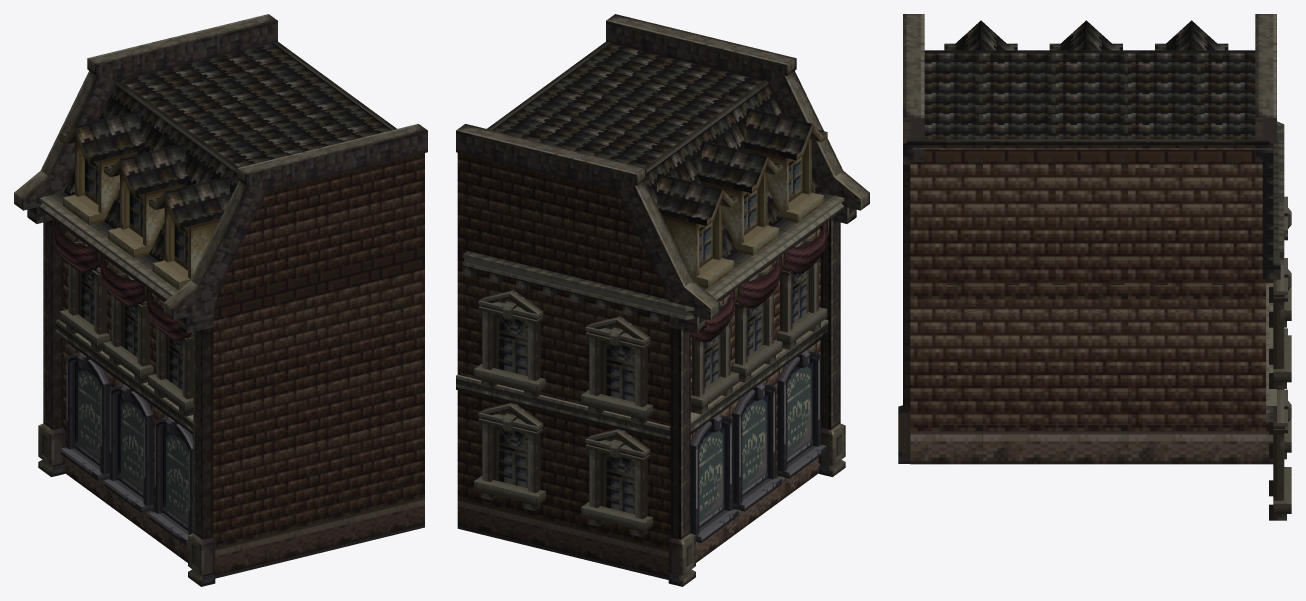
File: EnvBdgMD_City_B_Outdoor_L_F_Redwall_A.FBX
3 views of the same model, side by side, from view 1: azimuth 30°, elevation 25°; view 2: azimuth 150°, elevation 25°; view 3: azimuth 270°, elevation 25° (orthographic). The views are drawn at different scales.
Parts seen in each view (by area): view 1: EnvBdgMD_City_B_Outdoor_L_F_Redwall_A; view 2: EnvBdgMD_City_B_Outdoor_L_F_Redwall_A; view 3: EnvBdgMD_City_B_Outdoor_L_F_Redwall_A.
Boxes of the visible parts, left/top/right/bottom form: EnvBdgMD_City_B_Outdoor_L_F_Redwall_A: left=14, top=14, right=427, bottom=586; EnvBdgMD_City_B_Outdoor_L_F_Redwall_A: left=456, top=14, right=869, bottom=586; EnvBdgMD_City_B_Outdoor_L_F_Redwall_A: left=898, top=14, right=1291, bottom=520.
Size of the model in its own units: 476 by 713 by 541.
1 material, 1 textured.
